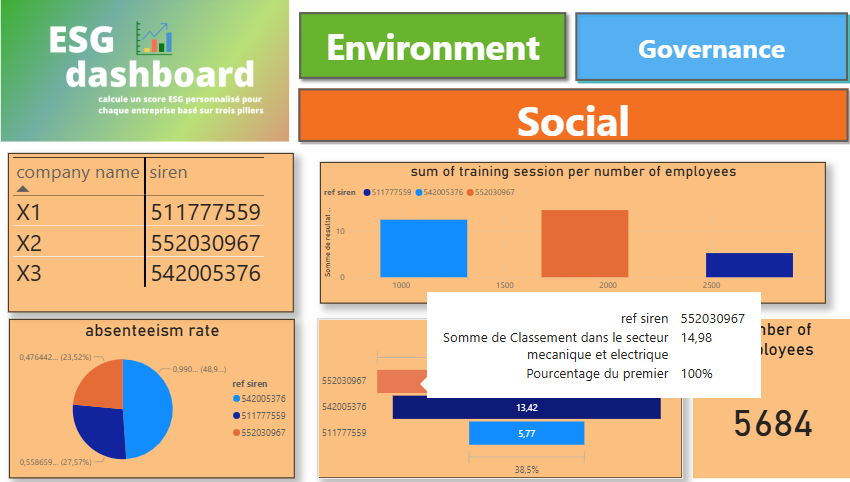

This screenshot's page, from the dashboard's own definition file:
{"tool":"powerbi","page":{"name":"social","canvas":[1280,720],"ordinal":3},"visuals":[{"type":"image","box":[1.7,0,436.7,218.3],"z":0},{"type":"actionButton","box":[435.6,14.2,408.9,115.6],"z":1000},{"type":"actionButton","box":[844.4,19.6,408.9,110.2],"z":2000},{"type":"tableEx","fields":{"Values":["entreprise.nom d'entreprise","entreprise.     siren "]},"box":[18.3,230,418.3,233.3],"z":3000},{"type":"pieChart","title":"absenteeism rate","fields":{"Category":["social.ref siren "],"Y":["Sum(social.taux d'absentisme)"]},"box":[20,473,418,233],"z":4000},{"type":"columnChart","title":"sum of training session per number of employees","fields":{"Category":["social.nbr de salarié"],"Y":["Sum(social.resultat formation)"],"Series":["social.ref siren "]},"box":[475,243.3,740,206.7],"z":5000},{"type":"card","title":"number of employees","fields":{"Values":["Sum(social.nbr de salarié)"]},"box":[1021.7,473.3,231.7,233.3],"z":6000},{"type":"funnel","title":"rating ","fields":{"Y":["Sum(social.Classement dans le secteur mecanique et electrique)"],"Category":["social.ref siren "]},"box":[473.3,473.3,533.3,233.3],"z":7000},{"type":"actionButton","box":[438.3,130,815,88.3],"z":8000}]}

Visuals, with their boxes in screenshot pixels (x1, y1, x2, y2), scaled from the page's 1280x720 canvas onto the 850x482 screenshot:
image: locate(1, 0, 291, 146)
actionButton: locate(289, 10, 561, 87)
actionButton: locate(561, 13, 832, 87)
tableEx - entreprise.nom d'entreprise x entreprise.     siren : locate(12, 154, 290, 310)
"absenteeism rate" pieChart: locate(13, 317, 291, 473)
"sum of training session per number of employees" columnChart: locate(315, 163, 807, 301)
"number of employees" card: locate(678, 317, 832, 473)
"rating " funnel: locate(314, 317, 668, 473)
actionButton: locate(291, 87, 832, 146)
